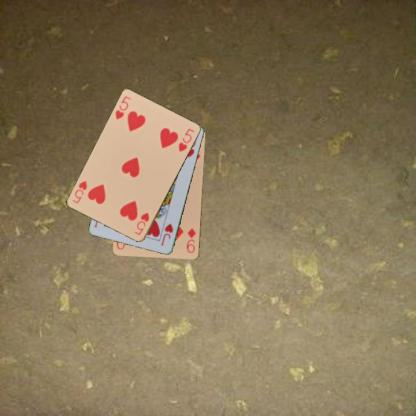5h: (132, 210, 151, 237), (113, 93, 132, 120)
9d: (184, 225, 197, 254)
Jh: (158, 222, 174, 248)
